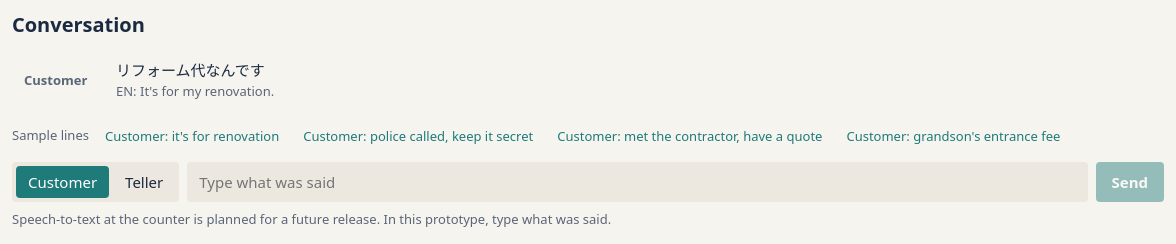
TurnPanel sample lines › fills the input with the Japanese and does not send
Step 1. Click the button "Customer: police called, keep it secret" → (418, 136), box [295, 122, 541, 150]
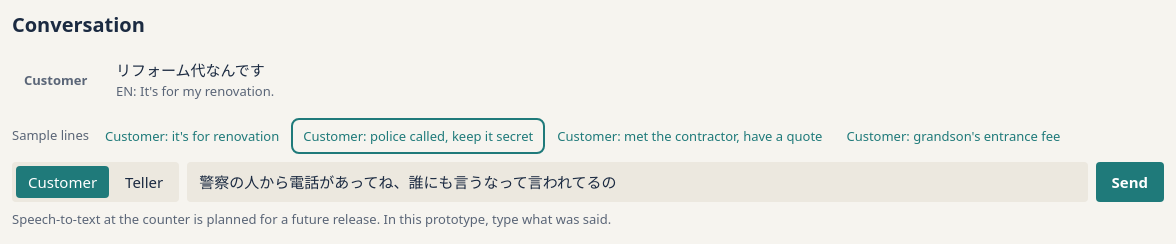
Result: the field named "Turn text" holds "警察の人から電話があってね、誰にも言うなって言われてるの" at [187, 162, 1088, 202]
